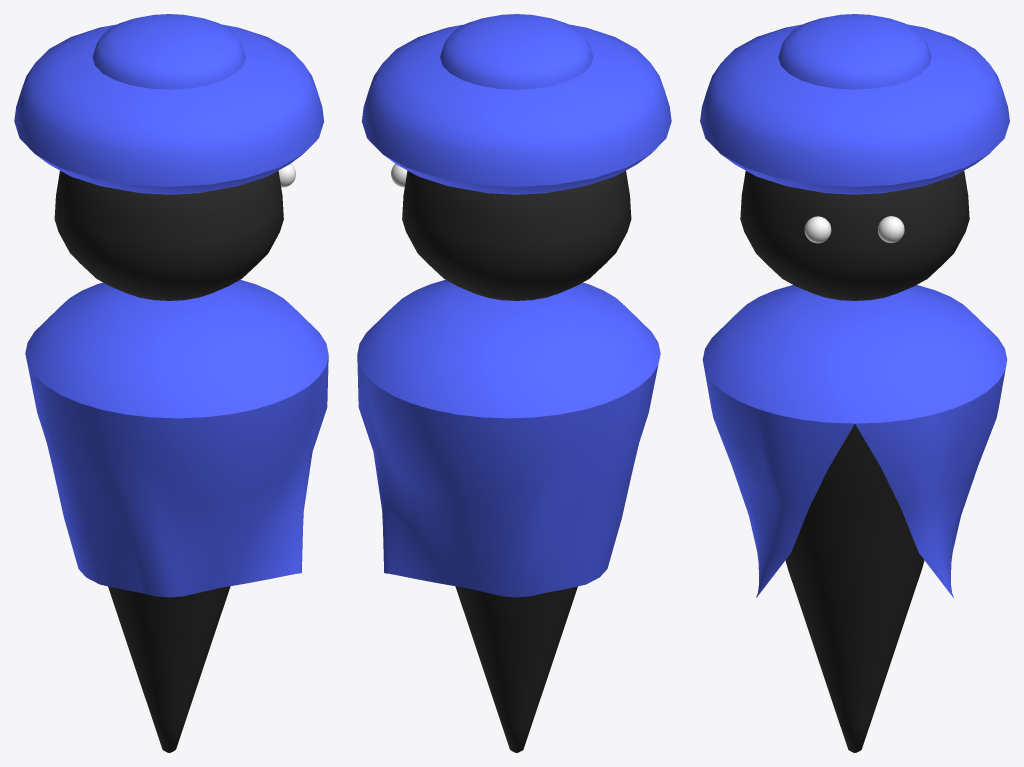
The model's file is pelerins-mystique.fbx.
3 renders of one model, left to right at view 1: azimuth 30°, elevation 25°; view 2: azimuth 150°, elevation 25°; view 3: azimuth 270°, elevation 25°, orthographic.
Visible parts, largest first — view 1: Cône, Sphère, Sphère_2, Cône_2, Sphère_1; view 2: Cône, Sphère, Sphère_2, Cône_2, Sphère_1; view 3: Cône, Sphère, Cône_2, Sphère_2, Sphère_1, pSphere11, pSphere10.
Part boxes in pixels (x1=…): Cône: x1=25, y1=280, x2=328, y2=597; Sphère: x1=14, y1=24, x2=324, y2=194; Sphère_2: x1=54, y1=170, x2=283, y2=300; Cône_2: x1=108, y1=586, x2=230, y2=752; Sphère_1: x1=92, y1=14, x2=245, y2=89; Cône: x1=357, y1=280, x2=660, y2=597; Sphère: x1=361, y1=24, x2=671, y2=194; Sphère_2: x1=402, y1=170, x2=631, y2=300; Cône_2: x1=455, y1=586, x2=577, y2=752; Sphère_1: x1=440, y1=14, x2=593, y2=89; Cône: x1=702, y1=285, x2=1007, y2=597; Sphère: x1=700, y1=24, x2=1009, y2=194; Cône_2: x1=785, y1=424, x2=924, y2=752; Sphère_2: x1=740, y1=171, x2=969, y2=300; Sphère_1: x1=778, y1=14, x2=931, y2=89; pSphere11: x1=804, y1=216, x2=831, y2=243; pSphere10: x1=878, y1=216, x2=904, y2=242.
Size of the model in its own units: 2.12 by 5.35 by 2.08.
